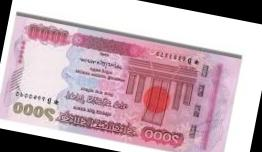1000 tk: (0, 13, 242, 152)
